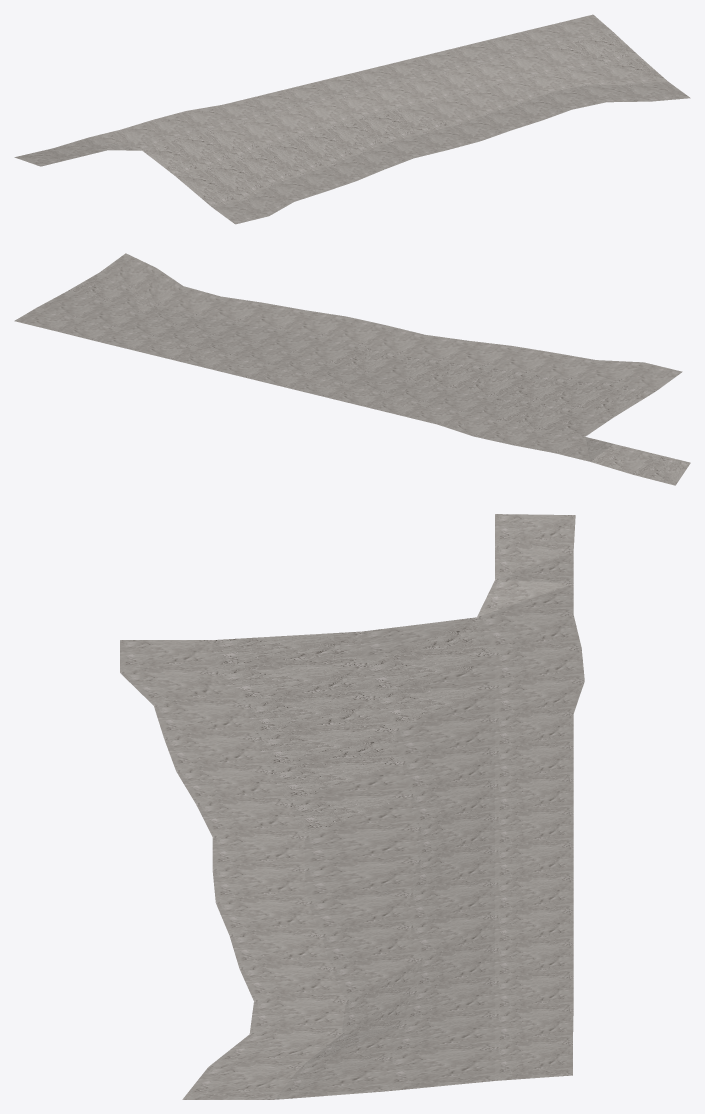
3 renders of one model, top to bottom at view 1: azimuth 30°, elevation 25°; view 2: azimuth 150°, elevation 25°; view 3: azimuth 270°, elevation 25°, orthographic. The views are drawn at different scales.
Parts seen in each view (by area): view 1: mesh00; view 2: mesh00; view 3: mesh00.
Boxes of the visible parts, box(x1,y1,x2,y2) form: mesh00: box(14, 14, 690, 224); mesh00: box(14, 253, 690, 485); mesh00: box(120, 514, 584, 1099).
Size of the model in its own units: 8598 by 196 by 2990.
